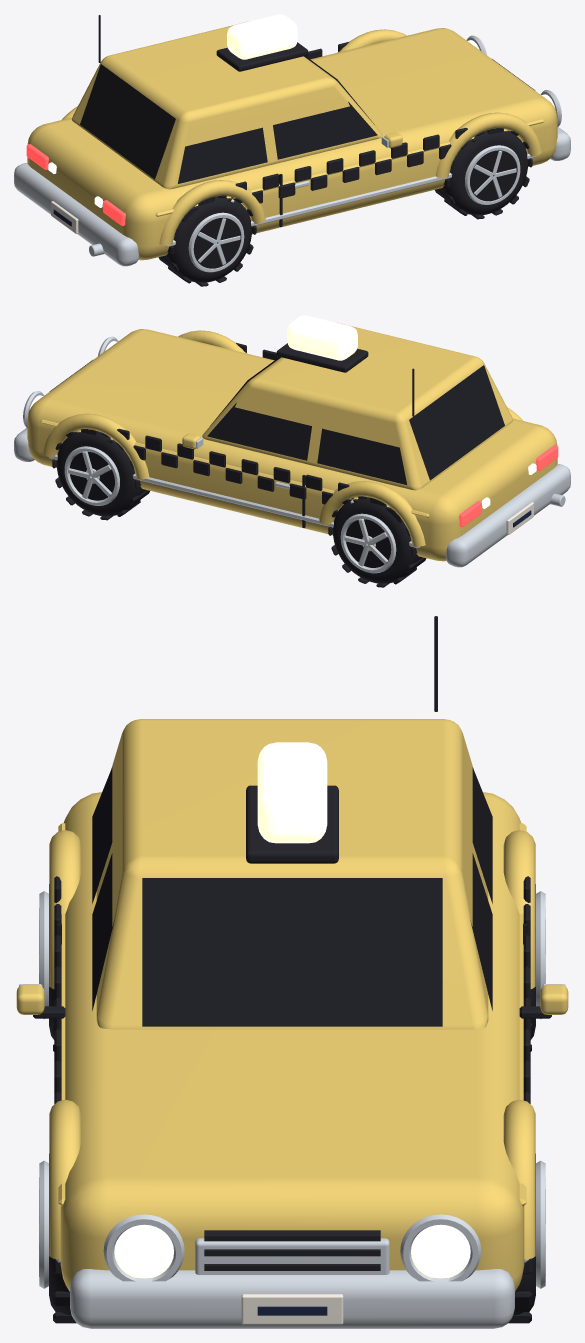
File: taxi.glb
3 views of the same model, one above another, from view 1: azimuth 30°, elevation 25°; view 2: azimuth 150°, elevation 25°; view 3: azimuth 270°, elevation 25° (orthographic). The views are drawn at different scales.
Visible parts, largest first — view 1: taxi; view 2: taxi; view 3: taxi.
Boxes of the visible parts, box(x1,y1,x2,y2) form: taxi: box(14, 14, 570, 286); taxi: box(14, 315, 570, 587); taxi: box(16, 616, 568, 1328).
Bounding box in the file's own units: 4.64 × 1.94 × 2.38.
1 material, 1 textured.
